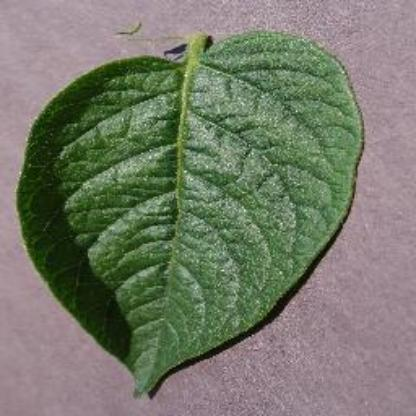Healthy-plant: (6, 22, 384, 402)
